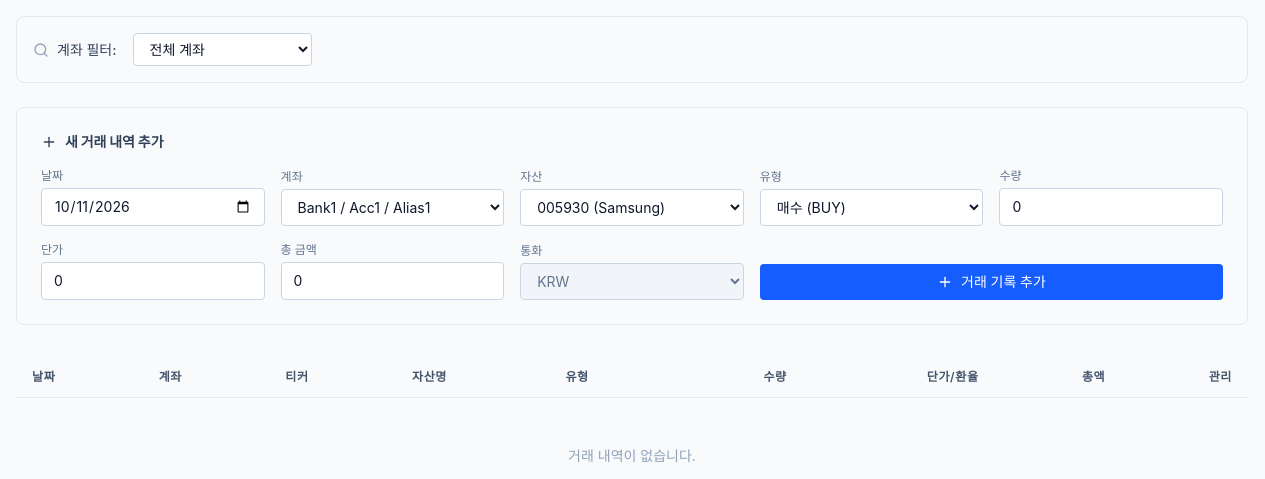
TransactionsTab › 자산 국가에 따라 통화(Currency)가 자동 매핑되고 비활성화되어야 한다
expect the button "거래 기록 추가" is shown: met, box left=760, top=264, right=1223, bottom=300
expect the dropdown named "currency" below "통화" shows "KRW": met, box left=520, top=263, right=744, bottom=300
Select "KO (CocaCola)" in the 3rd dropdown named "asset_id": (632, 208) left=520, top=189, right=744, bottom=226
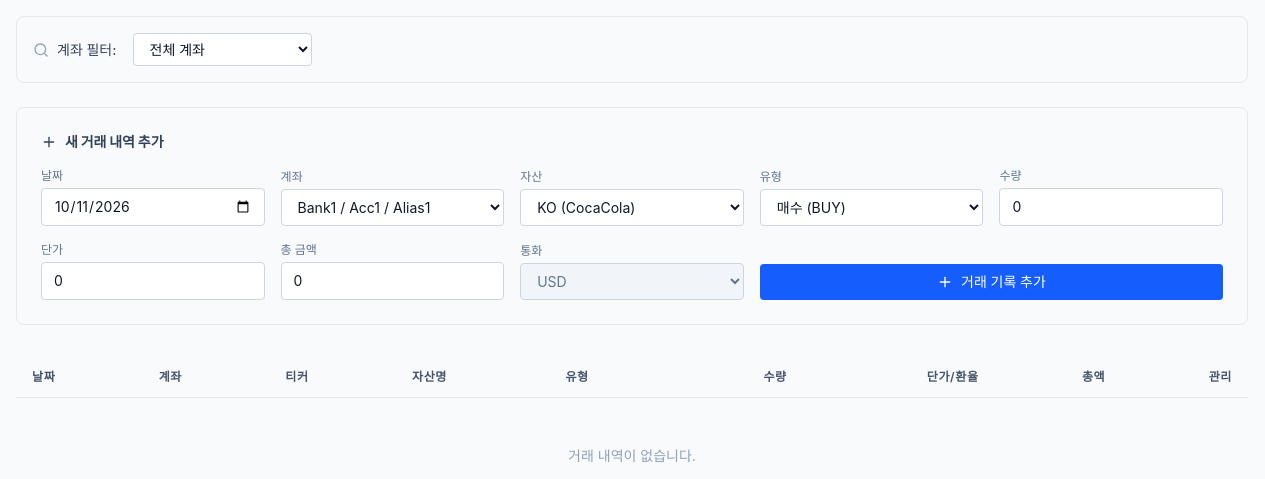
expect the dropdown named "currency" below "통화" is disabled: met, box left=520, top=263, right=744, bottom=300
expect the dropdown named "currency" below "통화" shows "USD": met, box left=520, top=263, right=744, bottom=300
